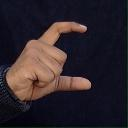hand: (5, 20, 91, 102)
